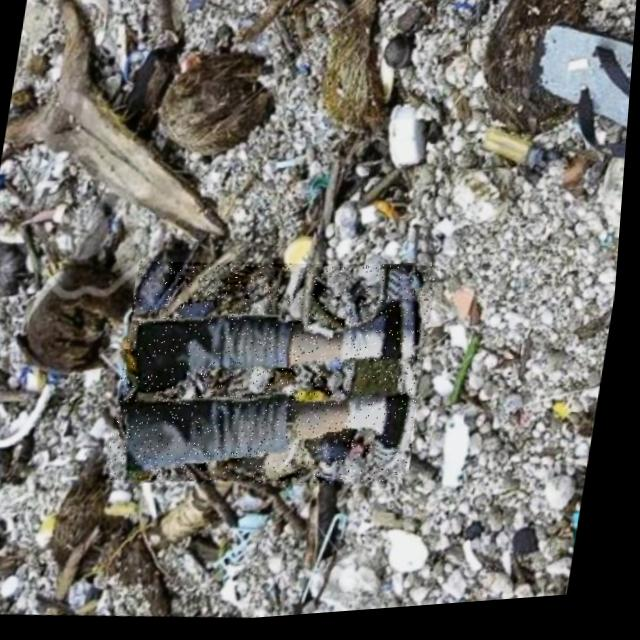Person in Rubble: (111, 245, 445, 507)
